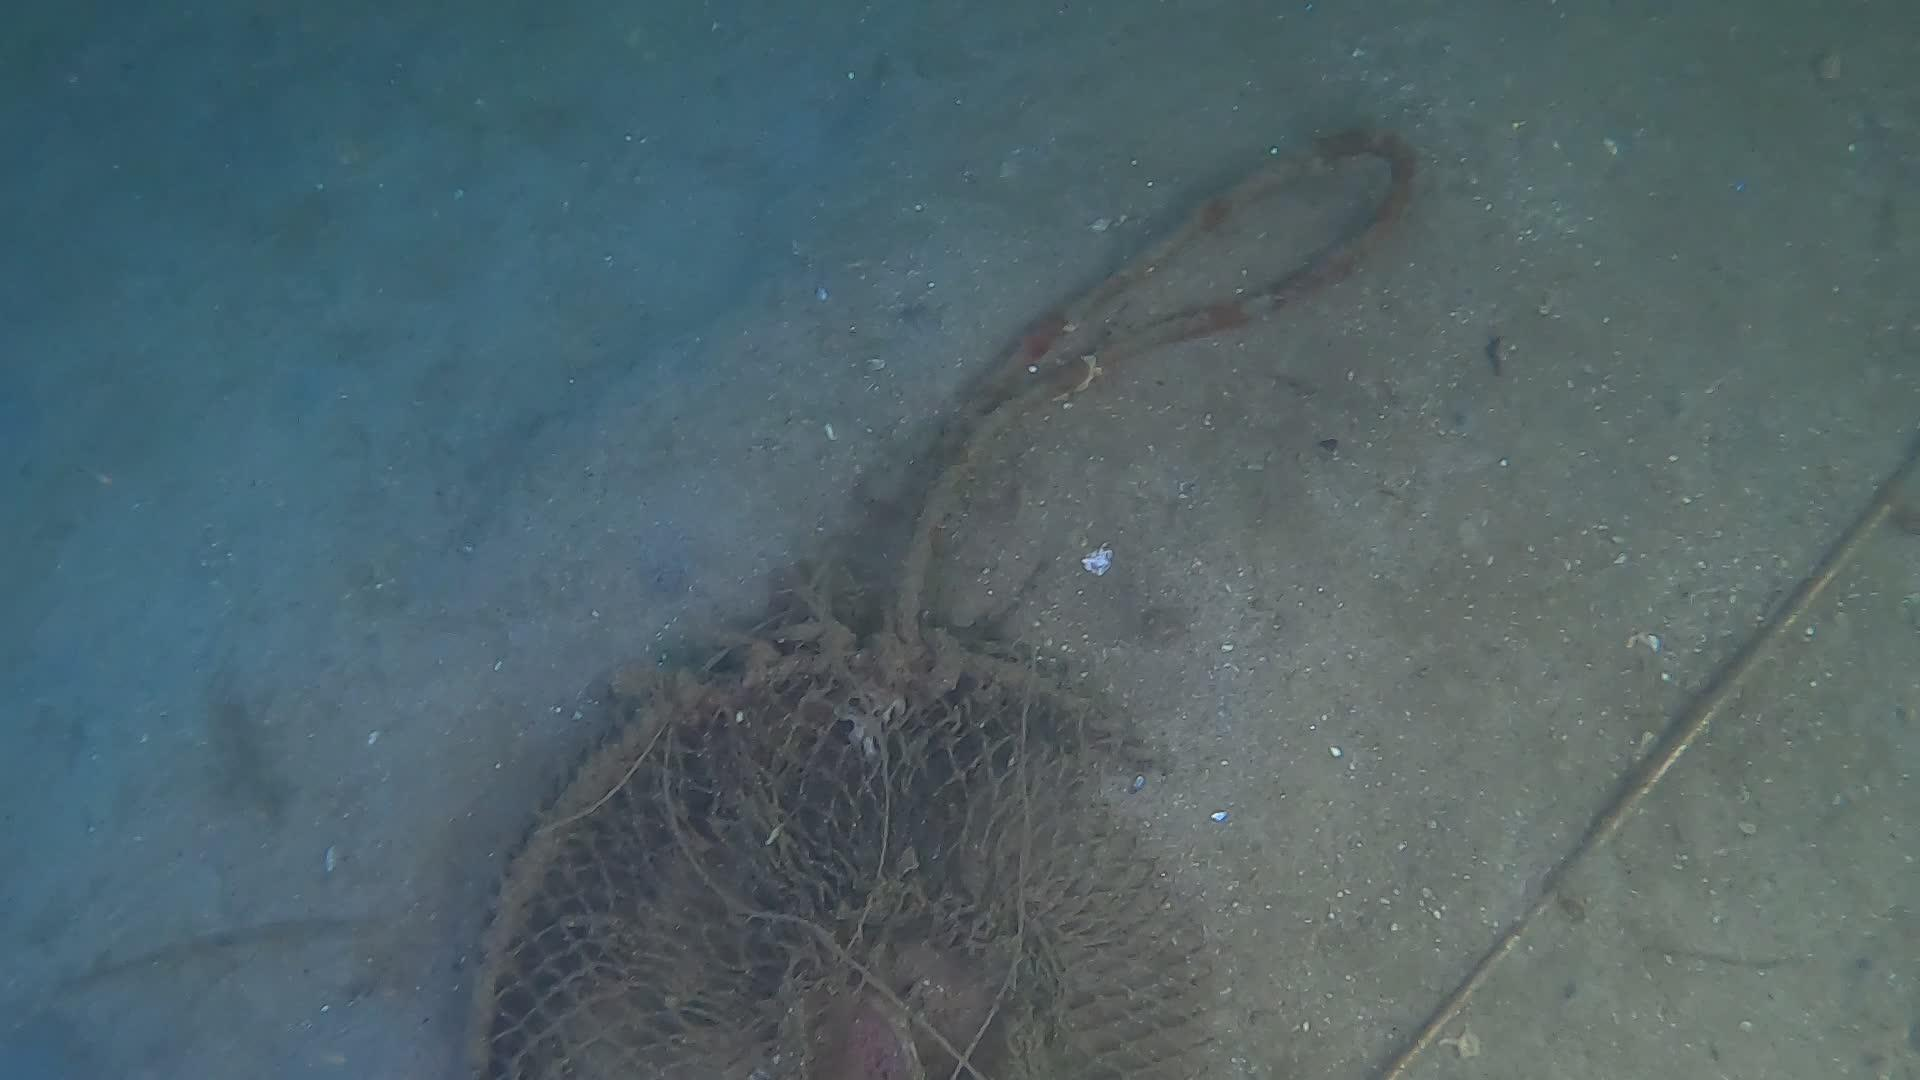bundle of ropes: (869, 127, 1422, 649)
circular fish trap: (447, 616, 1238, 1080)
